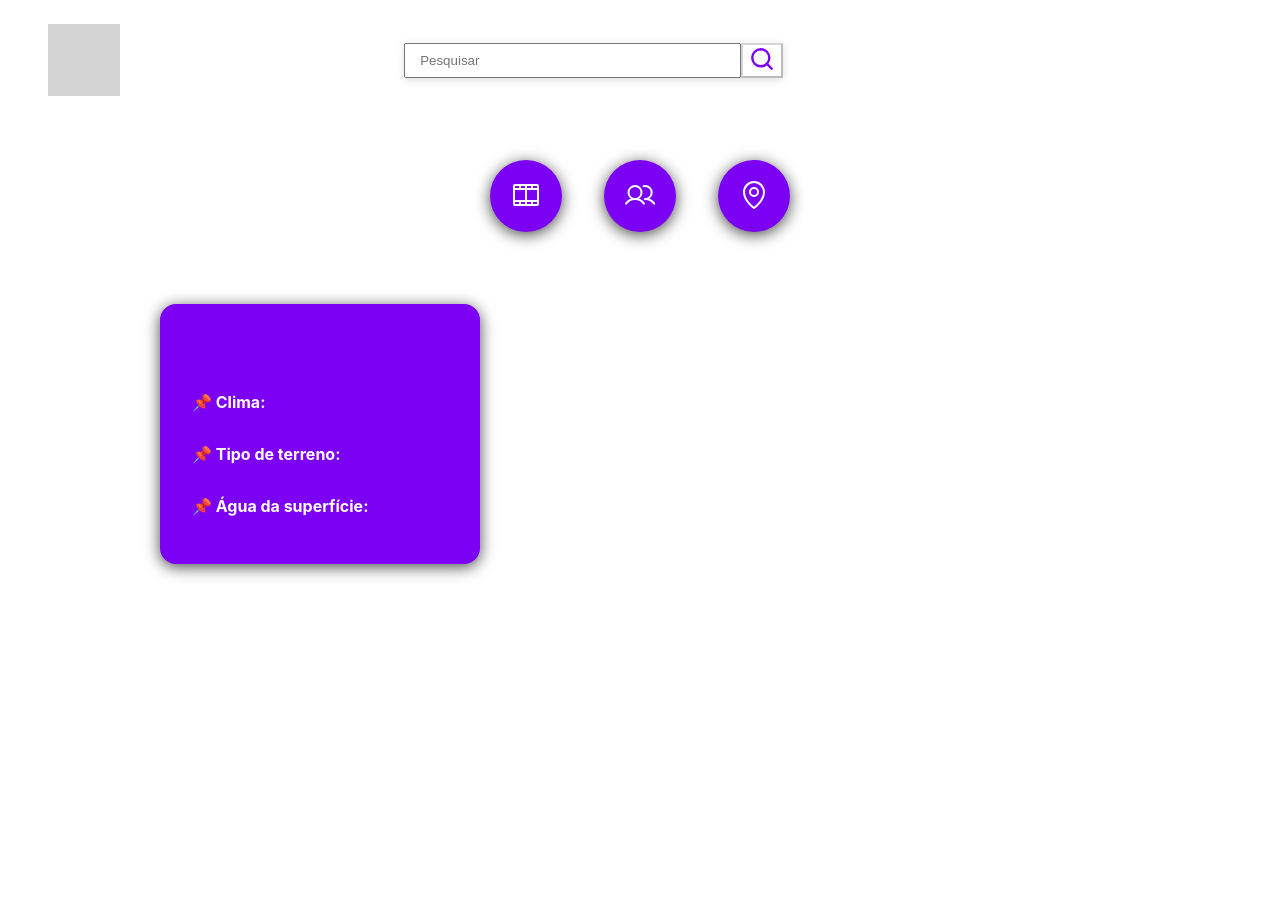
Scenario: Main page test › should have a film card when film button click
The image size is (1280, 900).
Click the button with test id "film".
click(526, 196)  # box top-left (490, 160), bottom-right (562, 232)
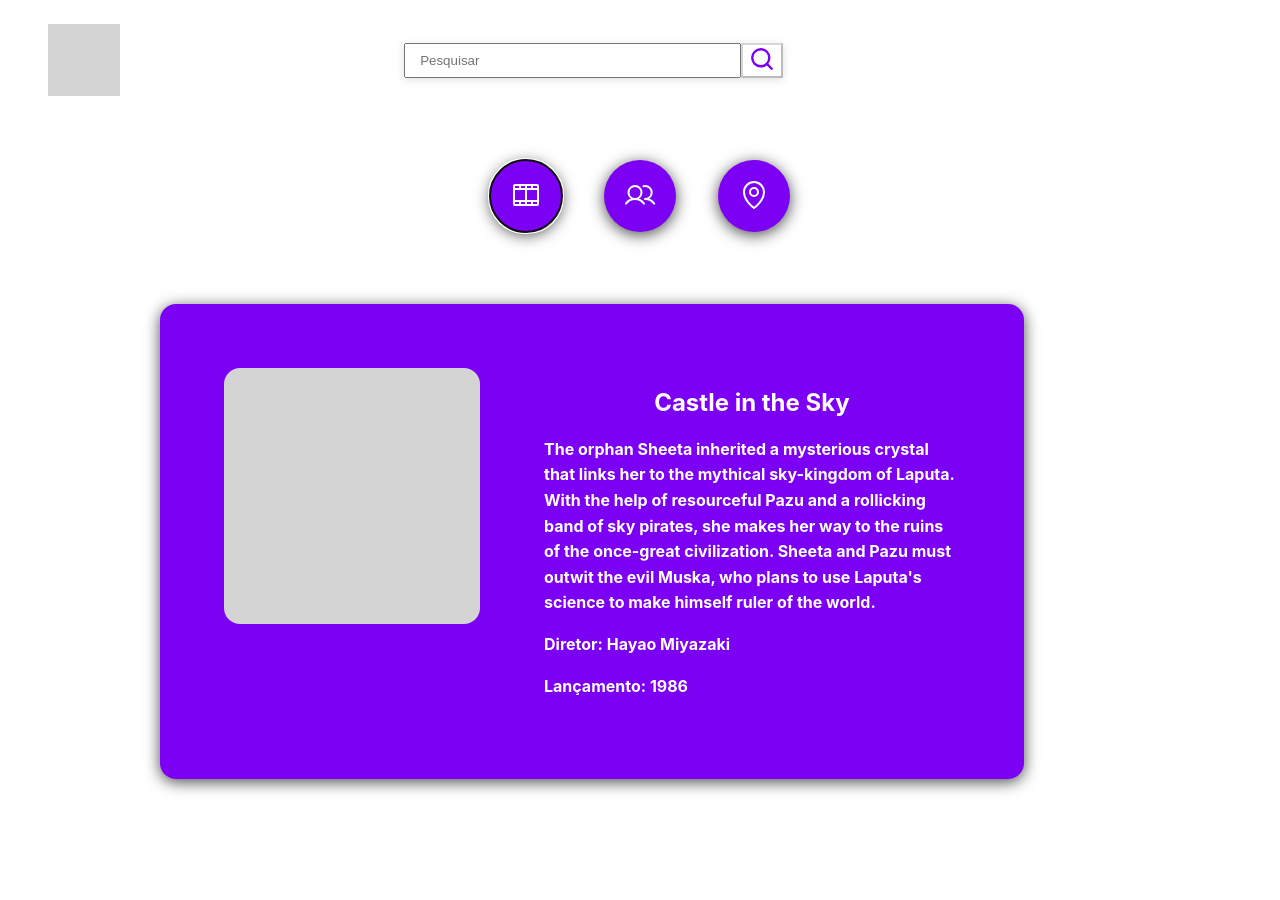
Result: the heading "Castle in the Sky" is shown at top-left (654, 388), bottom-right (850, 417)
